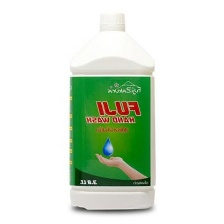cleaning_solution: (67, 9, 158, 213)
